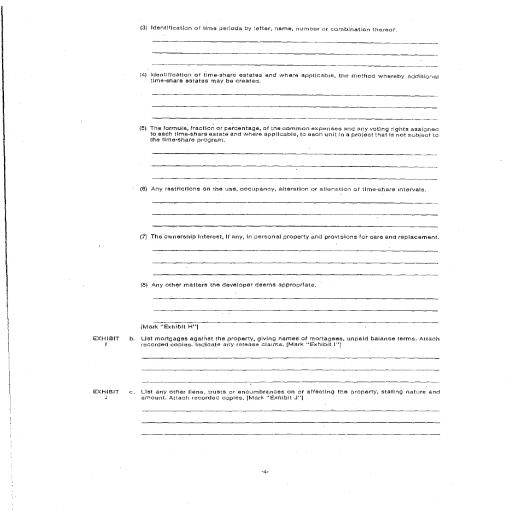free_text: (150, 124, 442, 145), (140, 334, 442, 351), (148, 70, 444, 87), (139, 386, 446, 402), (150, 183, 427, 196), (150, 22, 401, 36), (149, 232, 442, 243), (151, 280, 319, 291)
